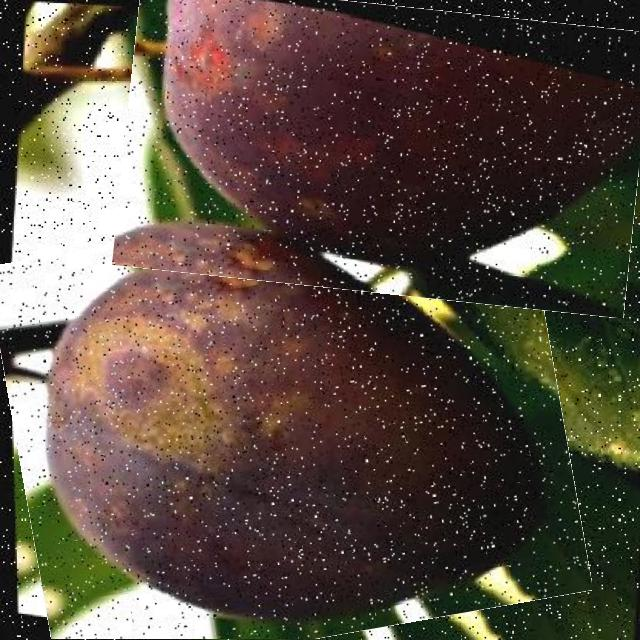plum: (1, 195, 576, 640), (119, 0, 640, 305)
